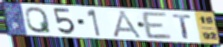1: (86, 9, 102, 38)
5: (52, 8, 76, 35)
A: (111, 10, 146, 39)
E: (140, 11, 175, 41)
Q: (24, 6, 53, 35)
T: (171, 14, 194, 40)
